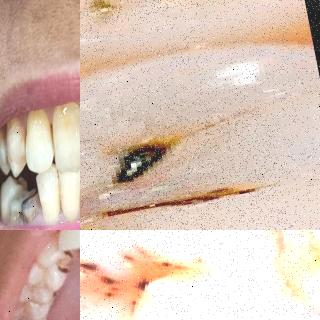cavities: (80, 78, 298, 230), (80, 230, 227, 312)
stains: (31, 112, 55, 162), (13, 125, 29, 174), (50, 261, 76, 289), (55, 104, 76, 136), (57, 242, 75, 266), (42, 285, 59, 309), (76, 166, 80, 216)
